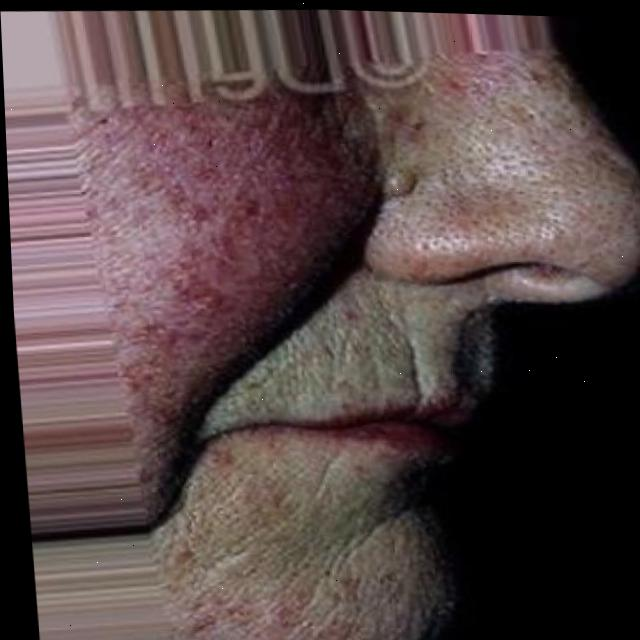Rosacea: (71, 104, 356, 386)
